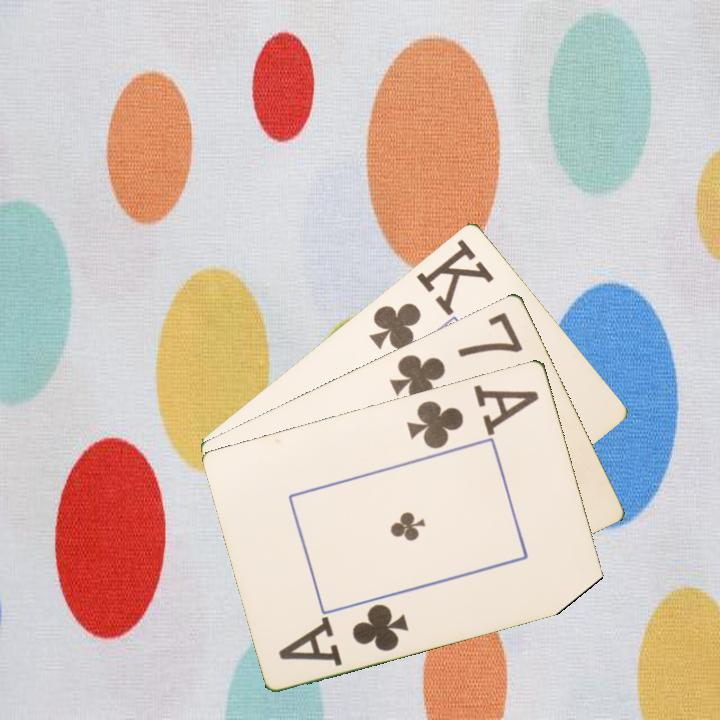7c: (386, 308, 526, 404)
Ac: (403, 380, 542, 452), (275, 599, 412, 669)
Kc: (365, 234, 497, 353)
